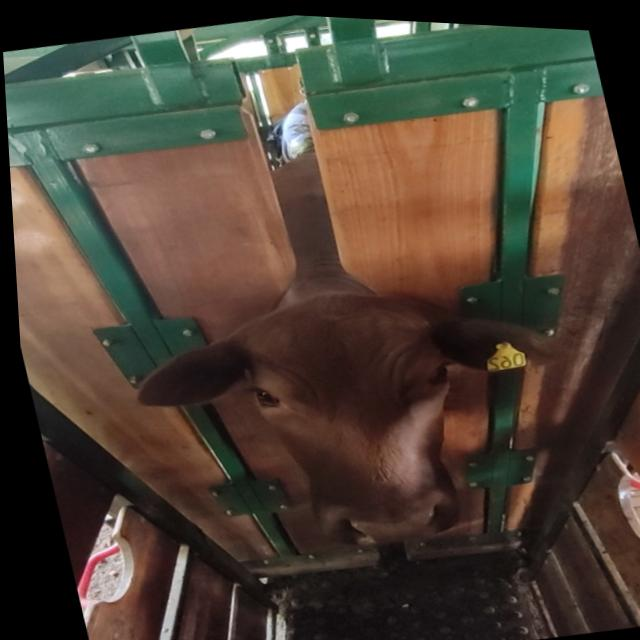cowFace: (225, 269, 485, 562)
